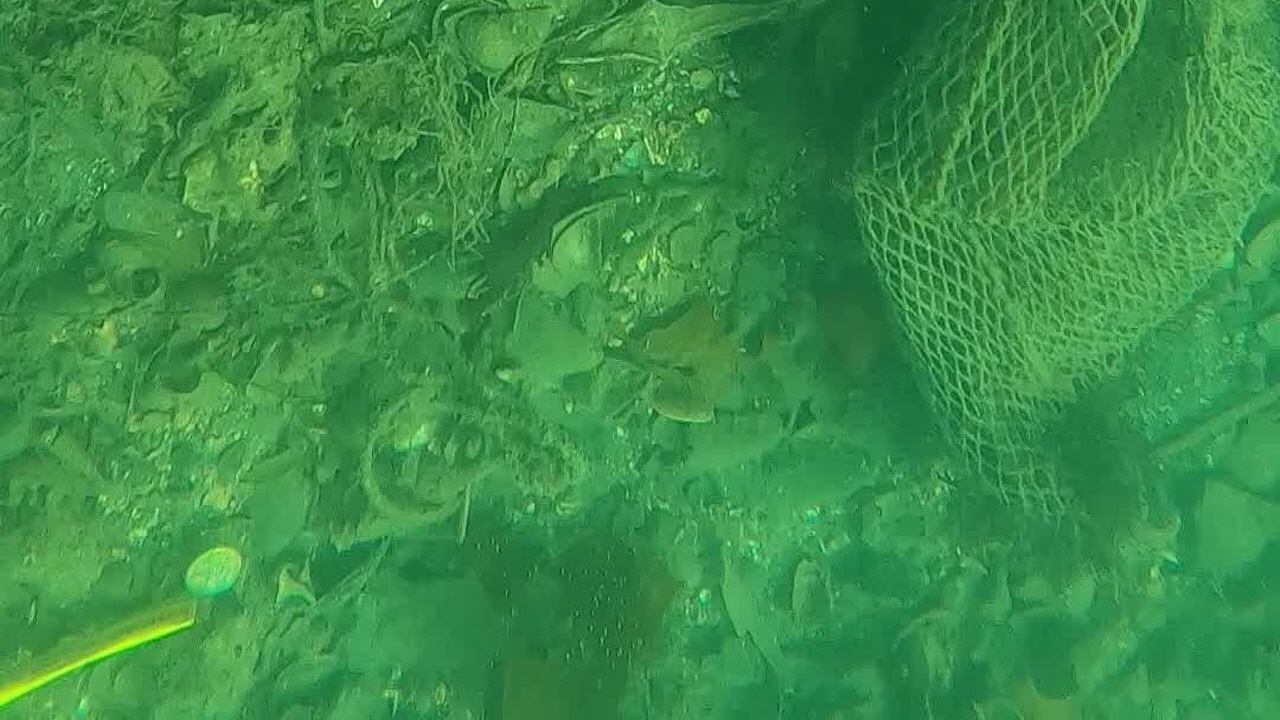fish net: (850, 0, 1280, 525)
